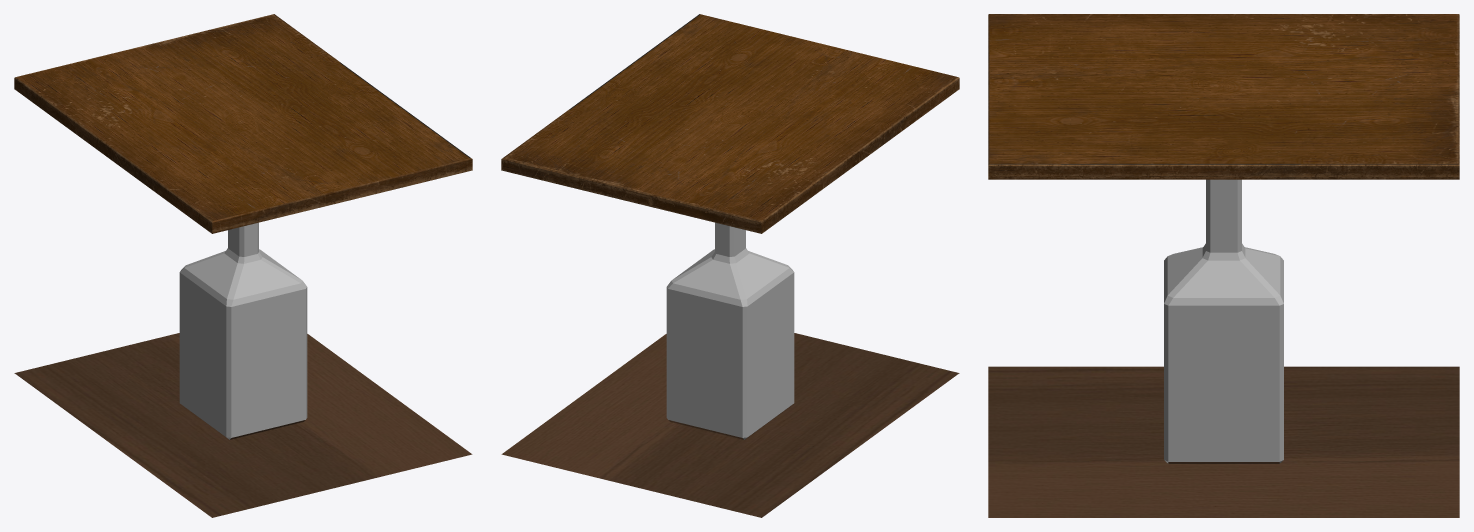
File: Tabdle_2.fbx
3 renders of one model, left to right at view 1: azimuth 30°, elevation 25°; view 2: azimuth 150°, elevation 25°; view 3: azimuth 270°, elevation 25°, orthographic. The views are drawn at different scales.
Parts seen in each view (by area): view 1: Cube.106; view 2: Cube.106; view 3: Cube.106.
Part boxes in pixels (x1,y1,x2,y2): Cube.106: (14, 14, 472, 517); Cube.106: (501, 14, 959, 517); Cube.106: (988, 14, 1459, 517).
Size of the model in its own units: 152 by 165 by 200.
Materials: 3 (2 with a texture image).
